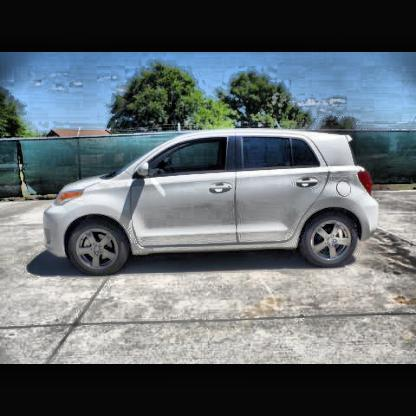Scion xD Hatchback 2012: (44, 130, 382, 273)
